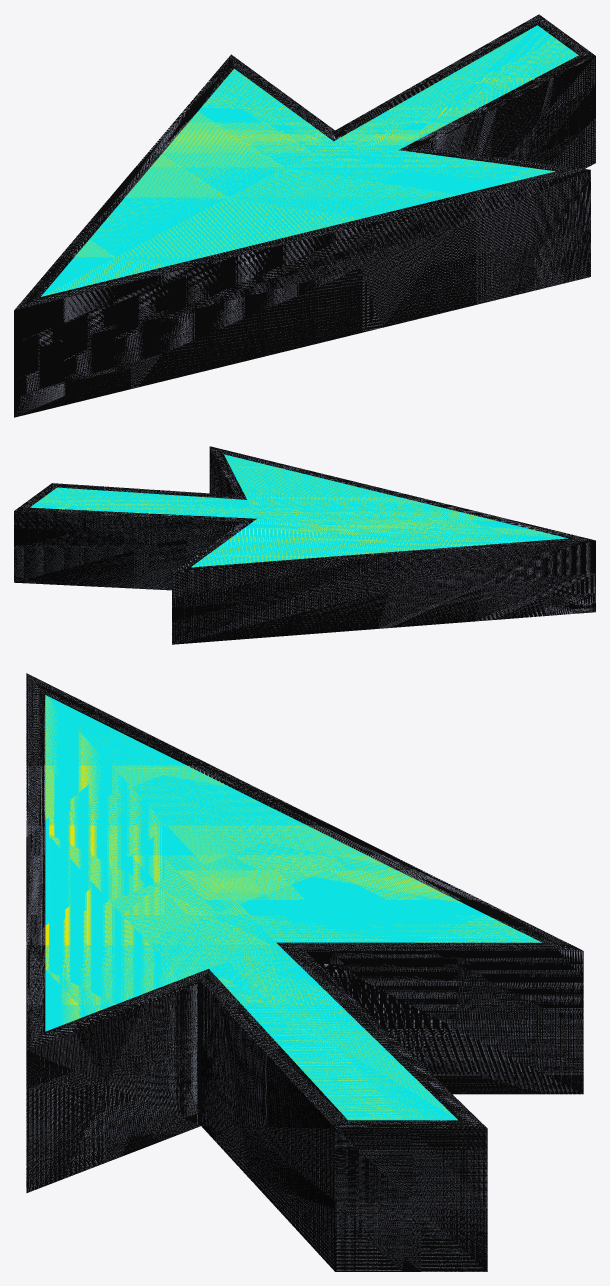
Rendered from pointer2.dae.
3 views of the same model, one above another, from view 1: azimuth 30°, elevation 25°; view 2: azimuth 150°, elevation 25°; view 3: azimuth 270°, elevation 25° (orthographic). The views are drawn at different scales.
Visible parts, largest first — view 1: SketchUp (×2); view 2: SketchUp (×2); view 3: SketchUp (×2).
Boxes of the visible parts, x1,y1,x2,y2 form: SketchUp (×2): (14, 14, 595, 417); SketchUp (×2): (14, 446, 595, 644); SketchUp (×2): (26, 673, 583, 1271).
Size of the model in its own units: 428 by 221 by 62.88.
